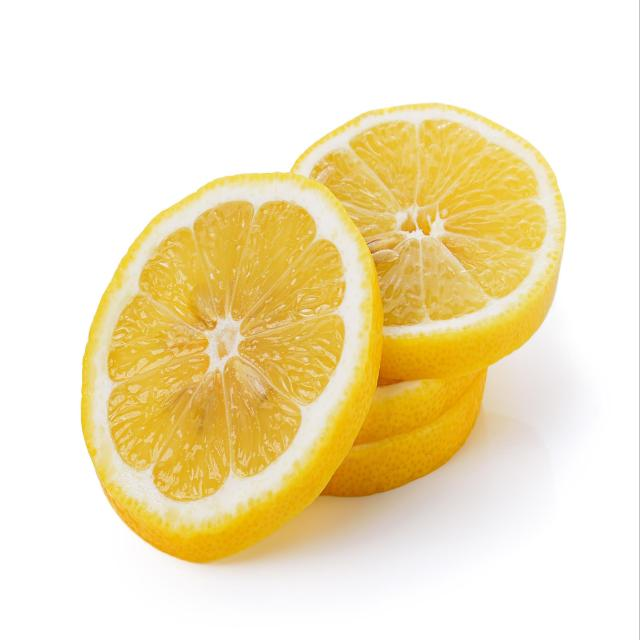lemon: (77, 168, 388, 568)
